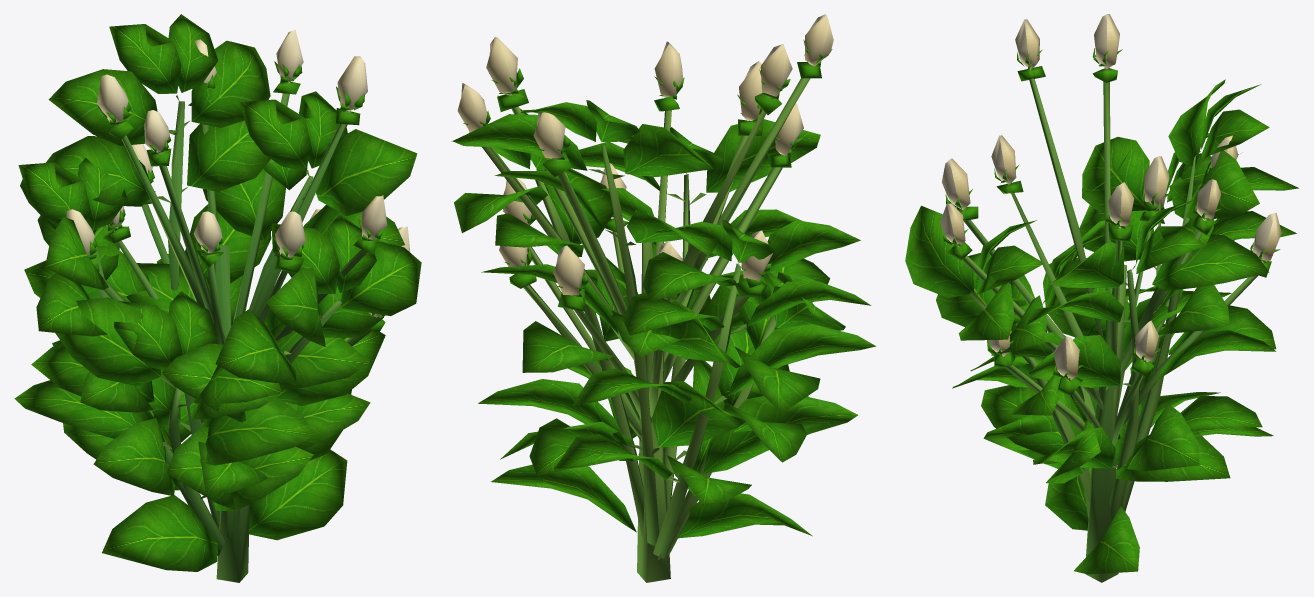
The model's file is NP_Jasmine_BudForming_LOD1.fbx.
3 views of the same model, side by side, from view 1: azimuth 30°, elevation 25°; view 2: azimuth 150°, elevation 25°; view 3: azimuth 270°, elevation 25° (orthographic). The views are drawn at different scales.
Visible parts, largest first — view 1: NP_Jasmine_BudForming; view 2: NP_Jasmine_BudForming; view 3: NP_Jasmine_BudForming.
Boxes of the visible parts, bbox=[...] form: NP_Jasmine_BudForming: bbox=[14, 14, 421, 582]; NP_Jasmine_BudForming: bbox=[451, 14, 875, 582]; NP_Jasmine_BudForming: bbox=[905, 14, 1298, 582].
Bounding box in the file's own units: 46.47 × 64.53 × 45.73.
